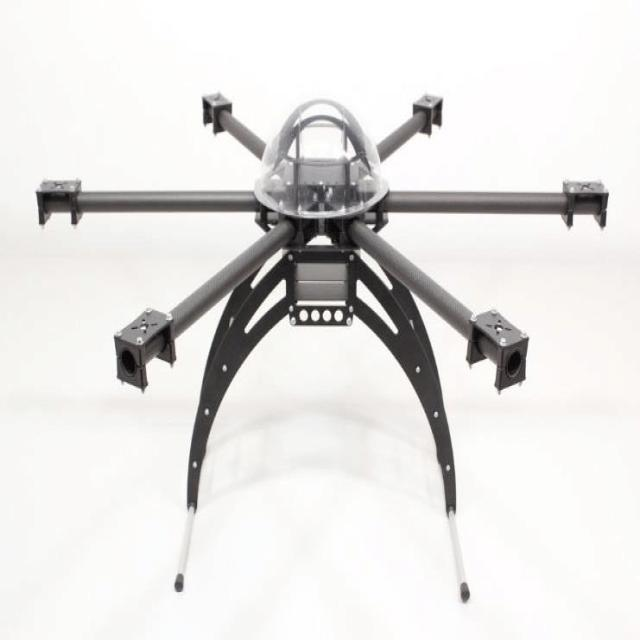drone: (0, 73, 631, 502)
